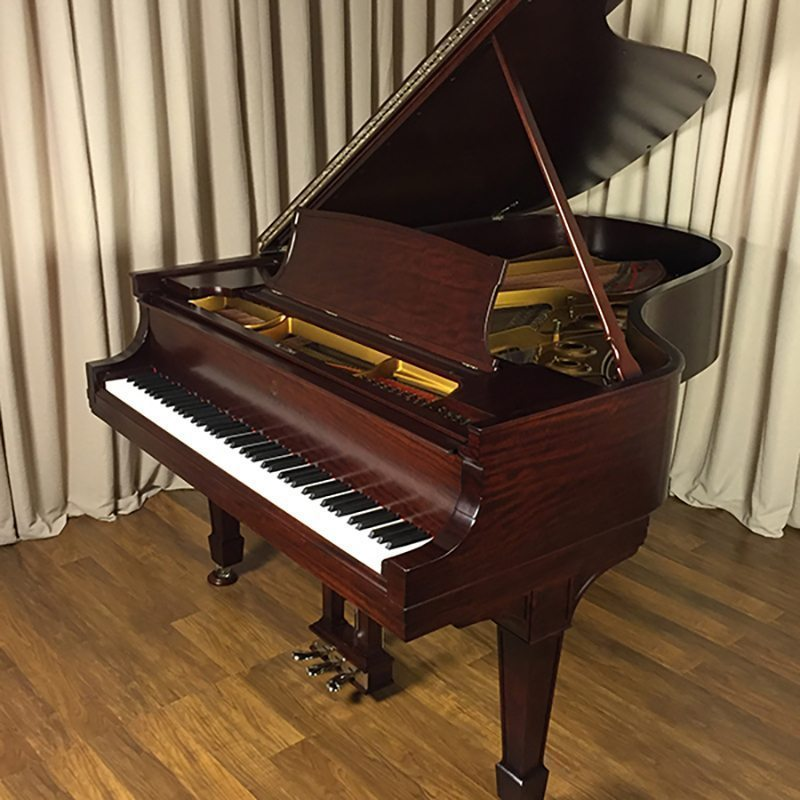GrandPiano: (111, 51, 738, 666)
